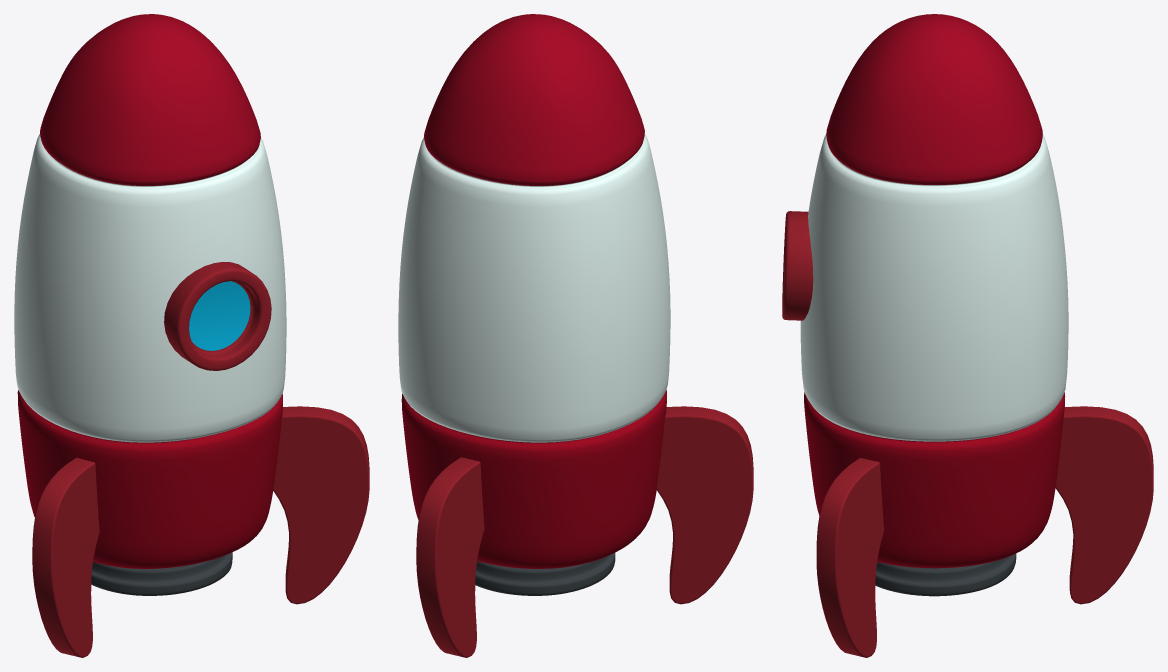
The model's file is Rocket_Sculpt.fbx.
The picture shows the model from 3 angles, left to right: view 1: azimuth 30°, elevation 25°; view 2: azimuth 150°, elevation 25°; view 3: azimuth 270°, elevation 25°; orthographic projection.
Parts seen in each view (by area): view 1: Rocket, Pezinho.002, Pezinho, Janela; view 2: Rocket, Pezinho, Pezinho.001; view 3: Rocket, Pezinho.001, Pezinho.002, Janela.
Boxes of the visible parts, <box> form: Rocket: <box>14,14,286,595</box>; Pezinho.002: <box>273,406,369,604</box>; Pezinho: <box>32,457,99,657</box>; Janela: <box>164,262,271,370</box>; Rocket: <box>398,14,670,595</box>; Pezinho: <box>656,406,753,604</box>; Pezinho.001: <box>416,457,484,657</box>; Rocket: <box>800,14,1068,596</box>; Pezinho.001: <box>1055,406,1153,604</box>; Pezinho.002: <box>816,458,884,657</box>; Janela: <box>782,211,813,320</box>.
Bounding box in the file's own units: 300 × 493 × 286.
